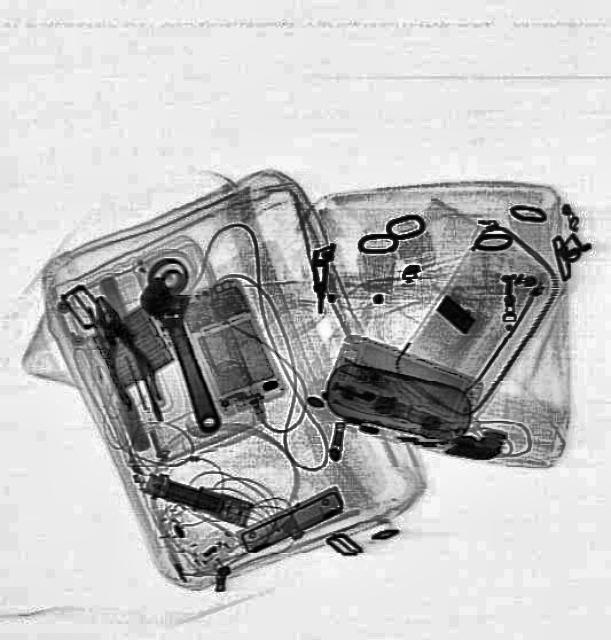Pliers: (78, 288, 165, 414)
Wrench: (130, 266, 238, 436)
